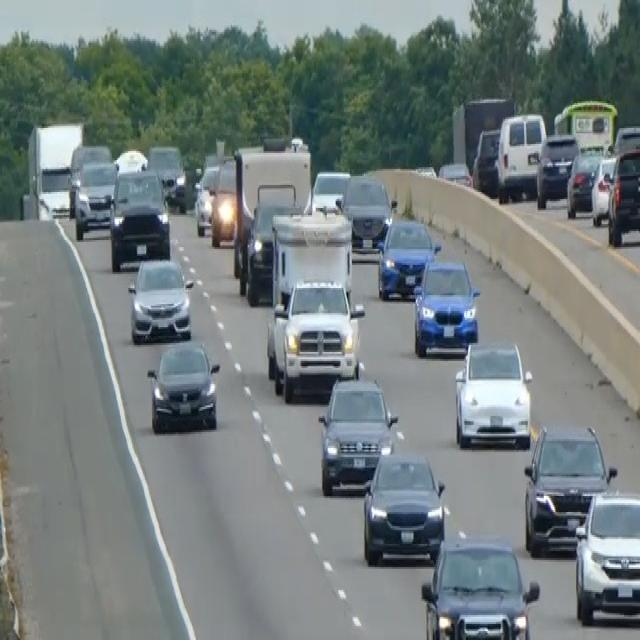car: (522, 421, 616, 555), (420, 534, 539, 638), (361, 448, 446, 565), (317, 374, 398, 494), (573, 489, 639, 626), (453, 336, 532, 450), (146, 338, 220, 434), (412, 256, 480, 357), (243, 190, 303, 304), (108, 167, 171, 270), (127, 254, 194, 343), (376, 215, 439, 301), (495, 110, 546, 201), (338, 171, 393, 249), (73, 156, 118, 240), (67, 140, 111, 217), (535, 132, 579, 208), (607, 144, 639, 245), (565, 144, 604, 217), (147, 142, 187, 212), (209, 155, 237, 247), (193, 160, 220, 235), (471, 126, 500, 194), (590, 153, 616, 226), (310, 167, 350, 213), (113, 146, 148, 174), (437, 160, 472, 187), (612, 122, 639, 154)
lorry: (25, 117, 84, 219)
truck: (265, 206, 365, 402), (231, 133, 312, 299)
